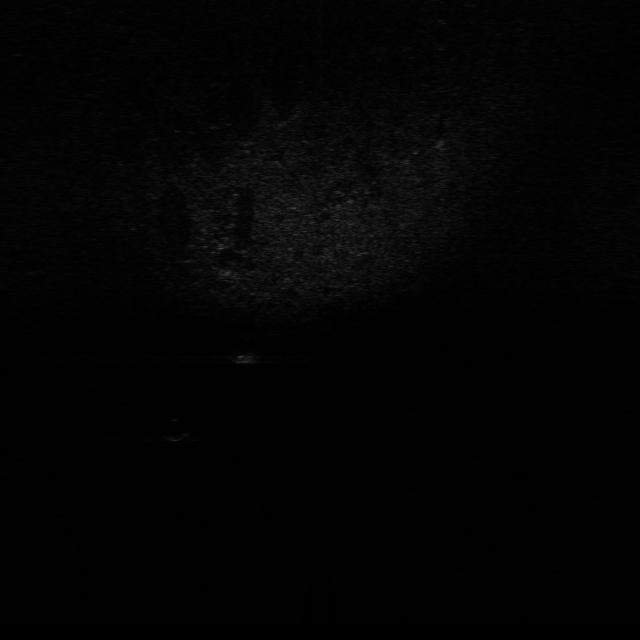ball: (157, 414, 196, 444)
cube: (230, 346, 270, 366)
